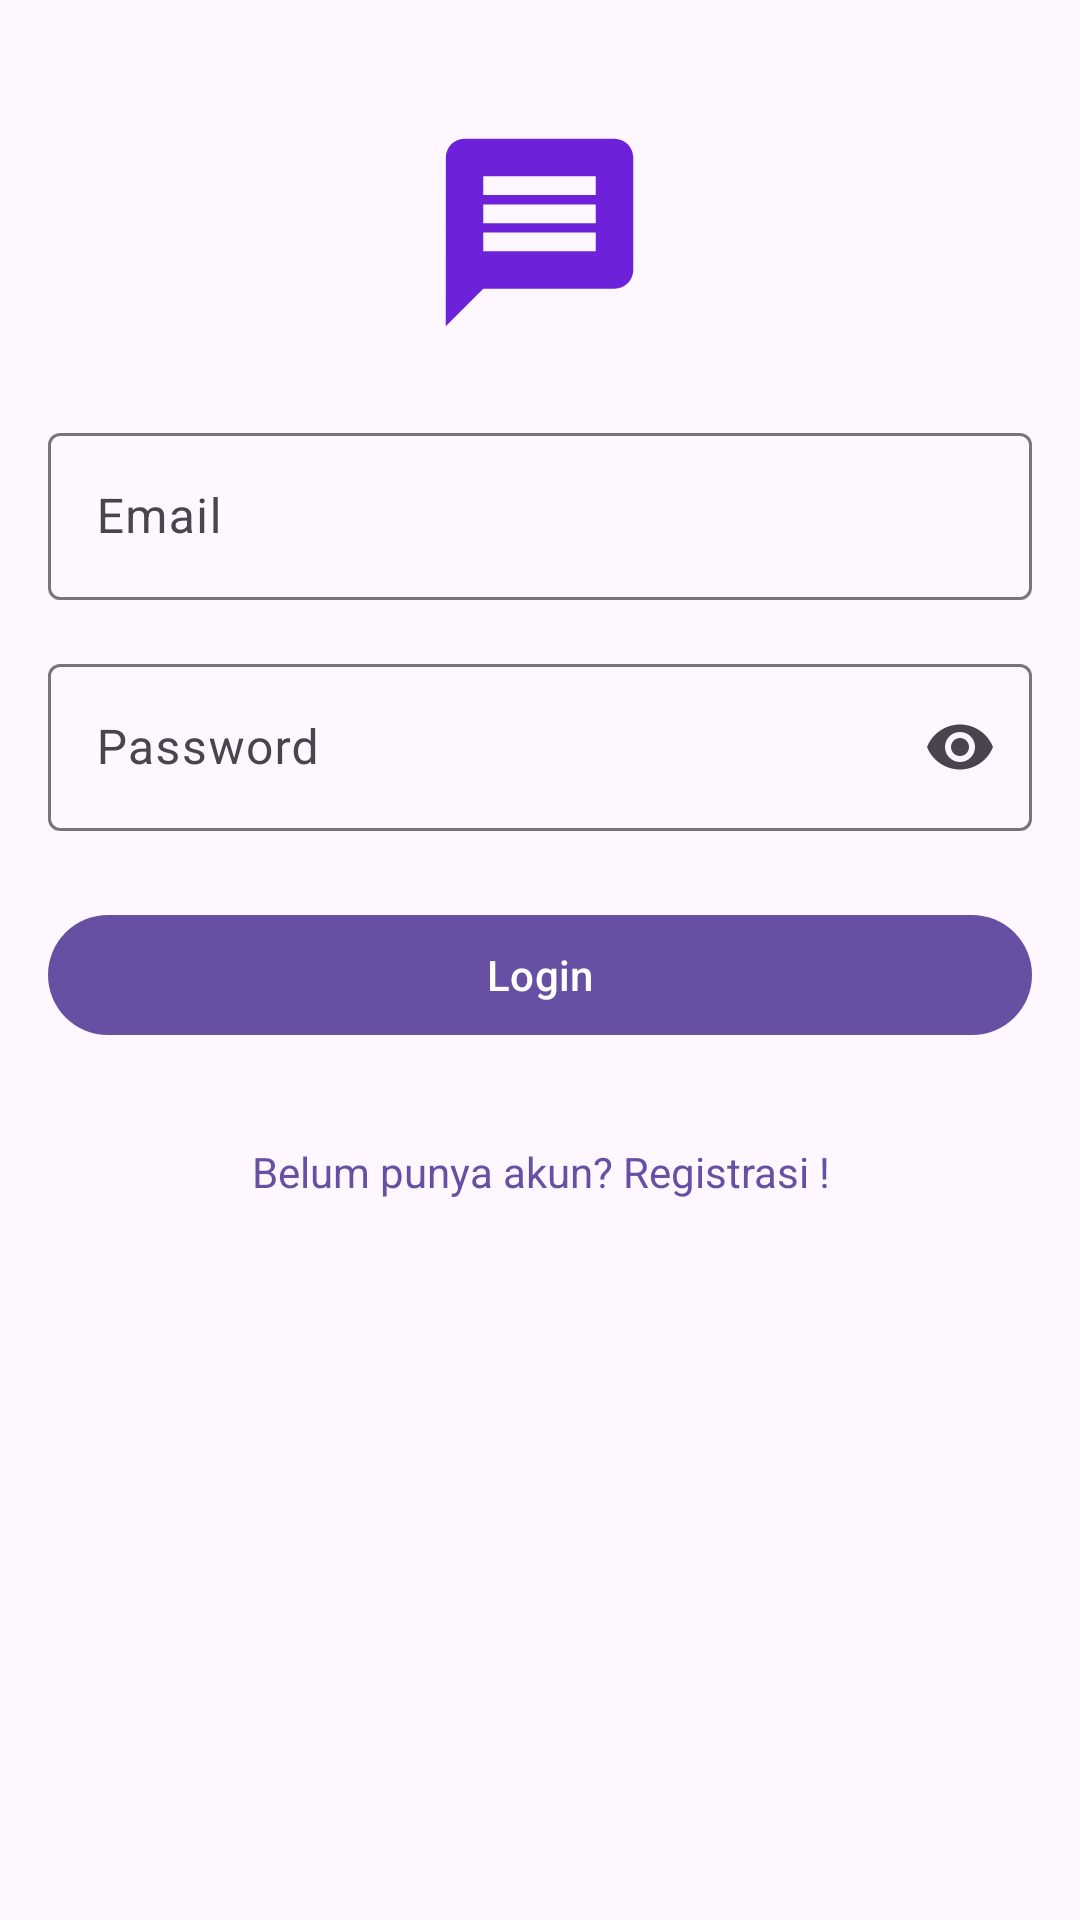

Point at icon controls on the screen. Image size 1080px×1920px, points as point (x, y).
message: point (539, 232)
